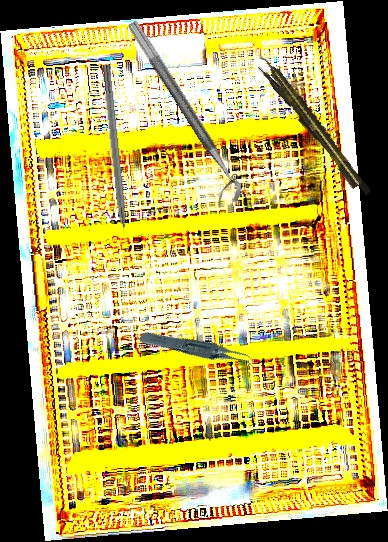Fixation Ring: (111, 19, 249, 212)
Handpiece: (257, 50, 364, 191)
Hook Surgical: (99, 64, 131, 251)
Pusher: (252, 64, 375, 196)
Tissue Forceps: (137, 309, 259, 393)
